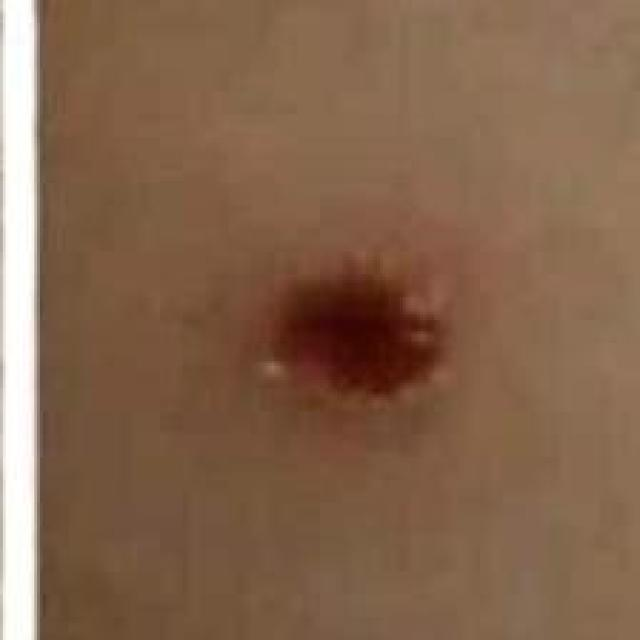others: (176, 118, 575, 579)
